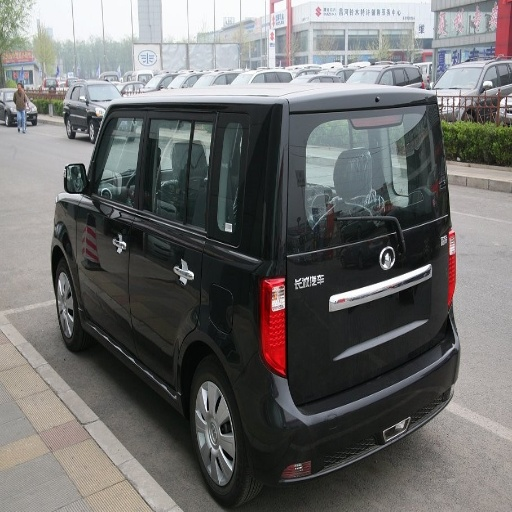back_bumper: (244, 351, 450, 481)
back_glass: (316, 160, 388, 216)
back_left_door: (130, 139, 220, 365)
back_left_light: (261, 278, 286, 376)
tailgate: (346, 106, 425, 174)
trunk: (289, 233, 430, 403), (193, 258, 253, 357)
